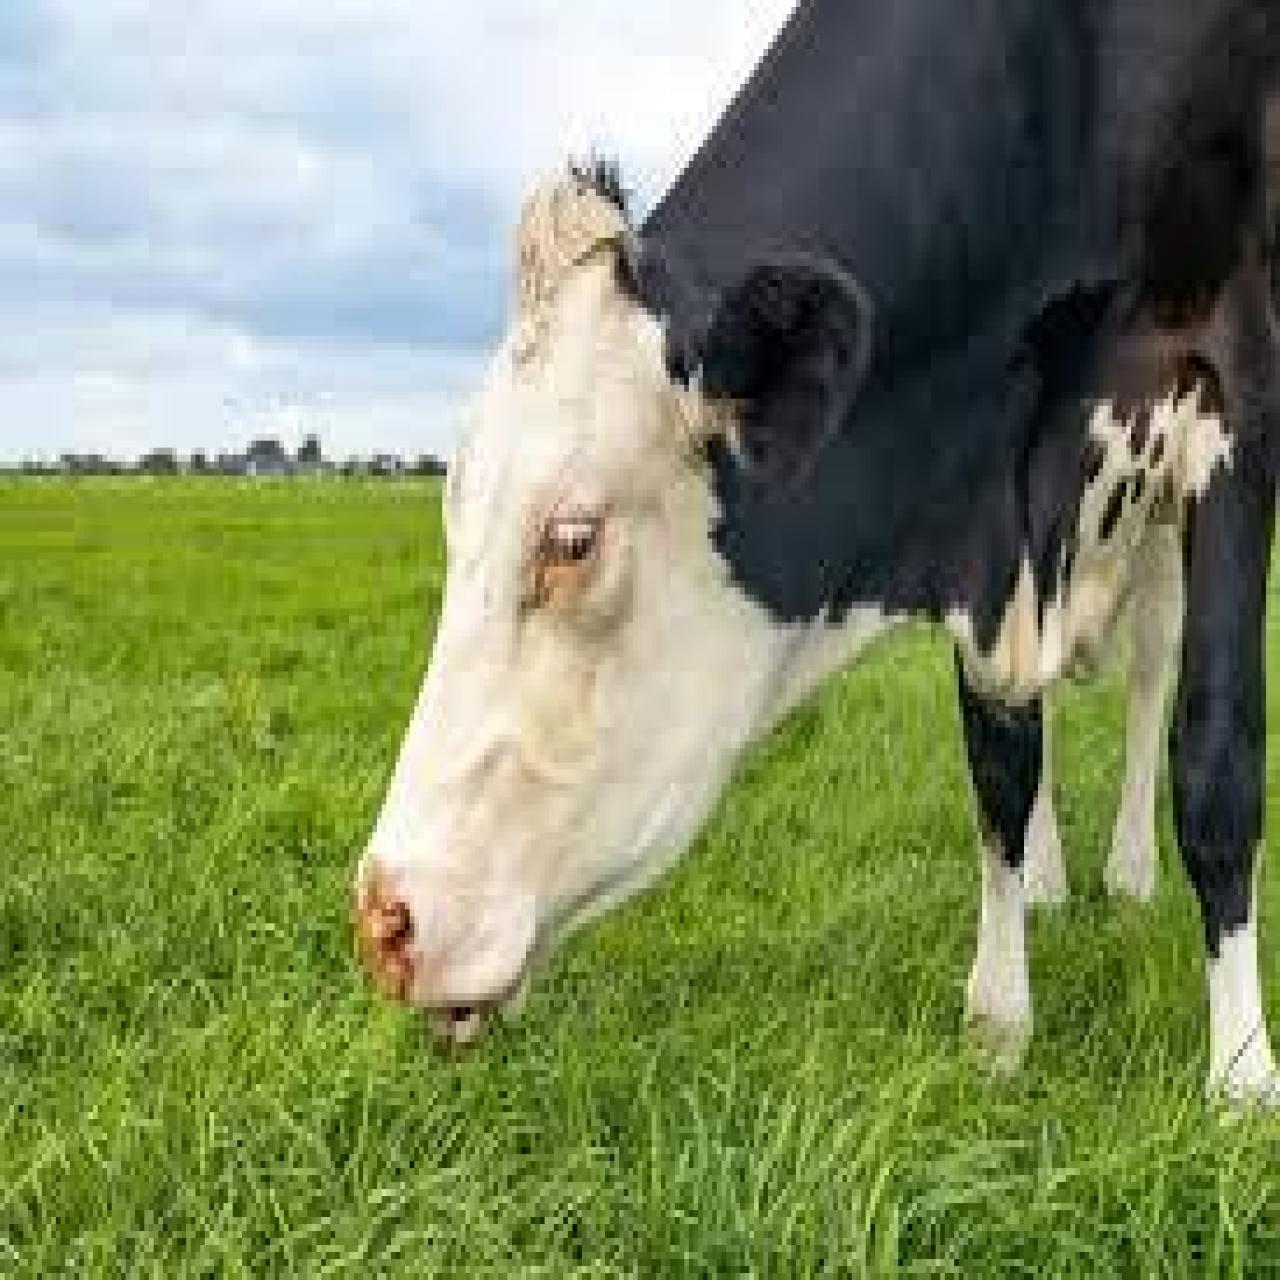cow: (359, 0, 1280, 1112)
